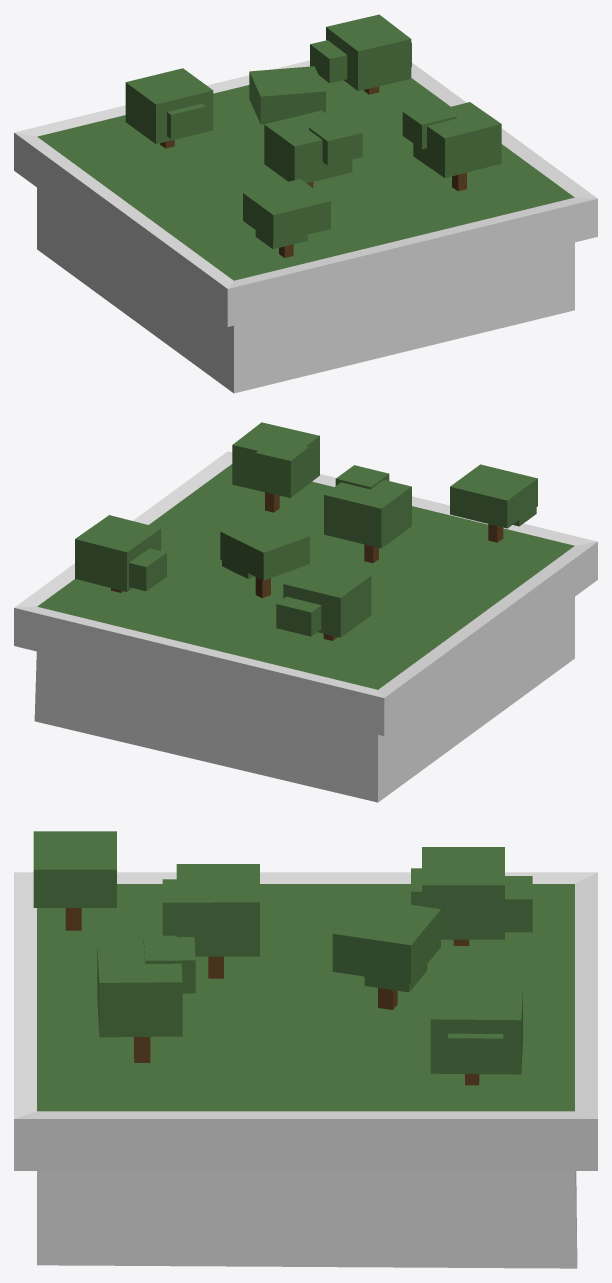
File: trees.gltf
3 views of the same model, one above another, from view 1: azimuth 30°, elevation 25°; view 2: azimuth 150°, elevation 25°; view 3: azimuth 270°, elevation 25° (orthographic). The views are drawn at different scales.
Parts seen in each view (by area): view 1: Cube, Cube.001, Cube.015, Cube.016, Cube.006, Cube.004, Cube.005, Cube.021, Cube.003, Cube.017, Cube.010, Cube.007; view 2: Cube, Cube.001, Cube.005, Cube.015, Cube.021, Cube.006, Cube.004, Cube.016, Cube.017, Cube.009, Cube.010, Cube.003; view 3: Cube, Cube.001, Cube.021, Cube.016, Cube.006, Cube.004, Cube.015, Cube.005, Cube.003, Cube.014, Cube.017, Cube.009 (+1 smaller).
Boxes of the visible parts, <box> form: Cube: <box>14,60,597,393</box>; Cube.001: <box>37,75,574,280</box>; Cube.015: <box>326,14,411,90</box>; Cube.016: <box>413,102,501,177</box>; Cube.006: <box>125,68,213,144</box>; Cube.004: <box>243,179,330,242</box>; Cube.005: <box>264,110,352,183</box>; Cube.021: <box>249,66,325,124</box>; Cube.003: <box>309,119,362,165</box>; Cube.017: <box>402,103,456,149</box>; Cube.010: <box>310,40,347,83</box>; Cube.007: <box>167,103,205,138</box>; Cube: <box>14,451,597,802</box>; Cube.001: <box>37,464,574,689</box>; Cube.005: <box>324,480,411,548</box>; Cube.015: <box>75,515,161,591</box>; Cube.021: <box>220,515,309,580</box>; Cube.006: <box>283,562,371,637</box>; Cube.004: <box>450,464,537,528</box>; Cube.016: <box>232,422,319,497</box>; Cube.017: <box>255,439,308,485</box>; Cube.009: <box>276,596,321,636</box>; Cube.010: <box>129,548,166,591</box>; Cube.003: <box>335,465,389,489</box>; Cube: <box>14,872,597,1268</box>; Cube.001: <box>37,884,574,1111</box>; Cube.021: <box>332,897,440,983</box>; Cube.016: <box>97,944,182,1037</box>; Cube.006: <box>422,847,504,939</box>; Cube.004: <box>33,831,116,907</box>; Cube.015: <box>430,984,522,1074</box>; Cube.005: <box>176,864,259,956</box>; Cube.003: <box>162,879,213,935</box>; Cube.014: <box>448,1033,503,1071</box>; Cube.017: <box>143,937,195,993</box>; Cube.009: <box>505,876,532,932</box>.
Size of the model in its own units: 2.17 by 1.04 by 2.17.
